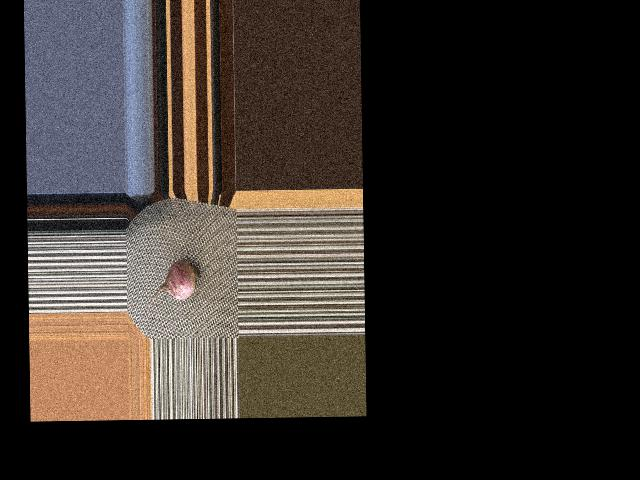beet: (145, 259, 201, 317)
